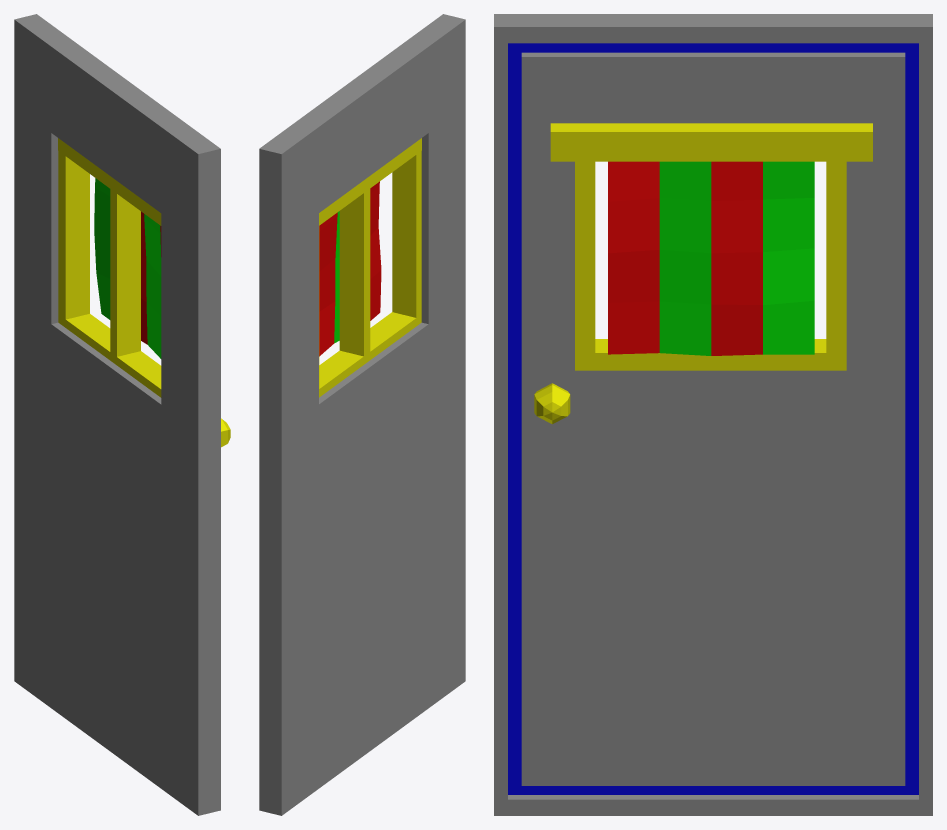
The model's file is Big_Porte.fbx.
The picture shows the model from 3 angles, left to right: view 1: azimuth 30°, elevation 25°; view 2: azimuth 150°, elevation 25°; view 3: azimuth 270°, elevation 25°; orthographic projection. The views are drawn at different scales.
Visible parts, largest first — view 1: pCube152; view 2: pCube152; view 3: pCube152.
Boxes of the visible parts, x1,y1,x2,y2 form: pCube152: (14,14,230,815); pCube152: (259,14,465,815); pCube152: (494,14,932,815).
Size of the model in its own units: 31.59 by 362 by 183.
